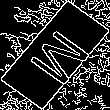M_SE: (18, 21, 92, 89)
